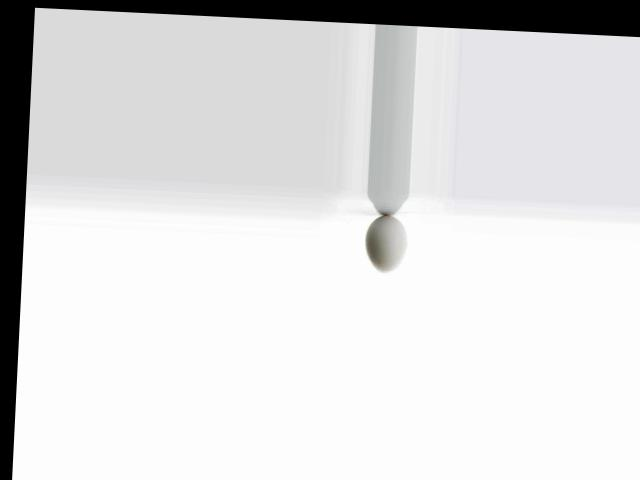egg: (364, 213, 407, 273)
